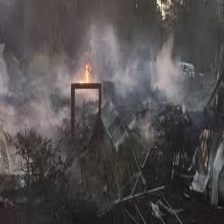smoke: (1, 57, 69, 132), (108, 38, 183, 97)
